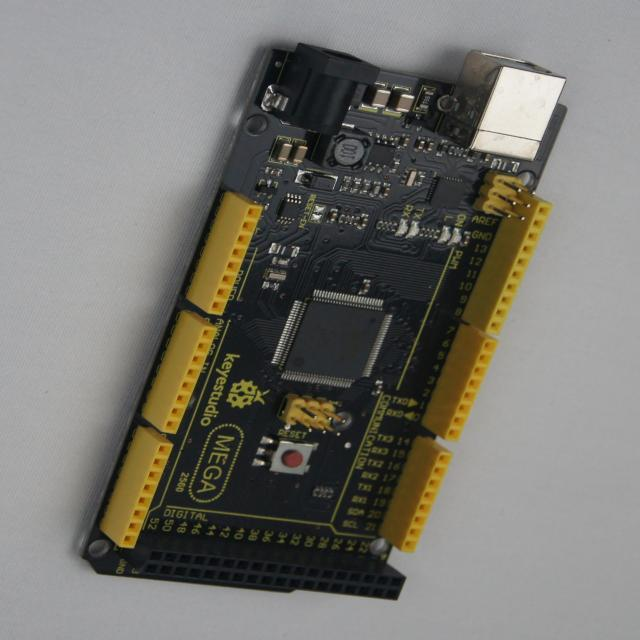Arduino Mega 2560 -Yellow-: (84, 44, 567, 599)
